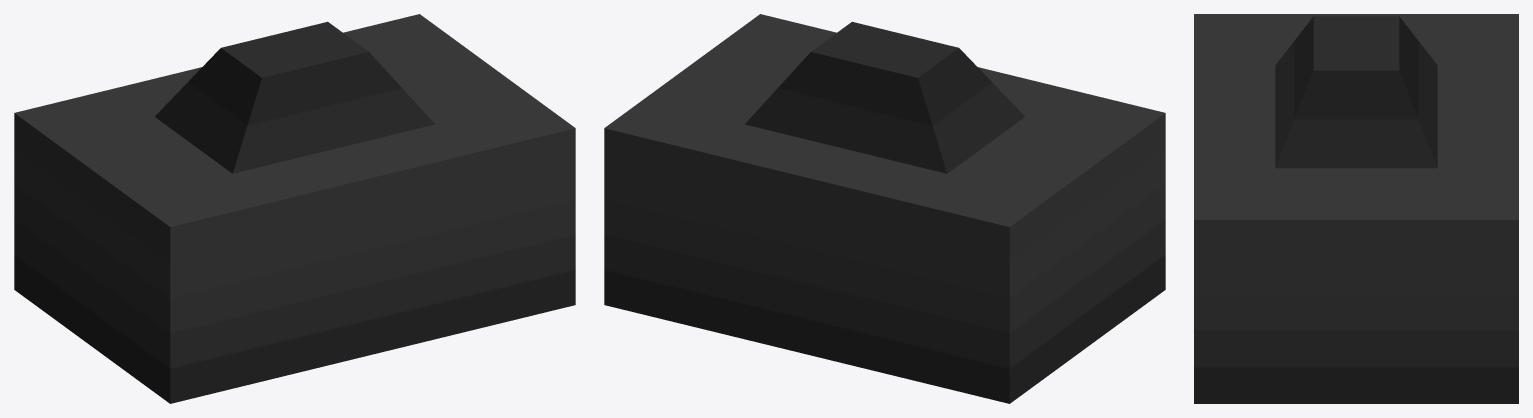
3 renders of one model, left to right at view 1: azimuth 30°, elevation 25°; view 2: azimuth 150°, elevation 25°; view 3: azimuth 270°, elevation 25°, orthographic. The views are drawn at different scales.
Visible parts, largest first — view 1: Root047; view 2: Root047; view 3: Root047.
Boxes of the visible parts, left/top/right/bottom form: Root047: left=14, top=14, right=575, bottom=403; Root047: left=604, top=14, right=1165, bottom=403; Root047: left=1194, top=14, right=1518, bottom=403.
Bounding box in the file's own units: 12 × 7 × 8.
